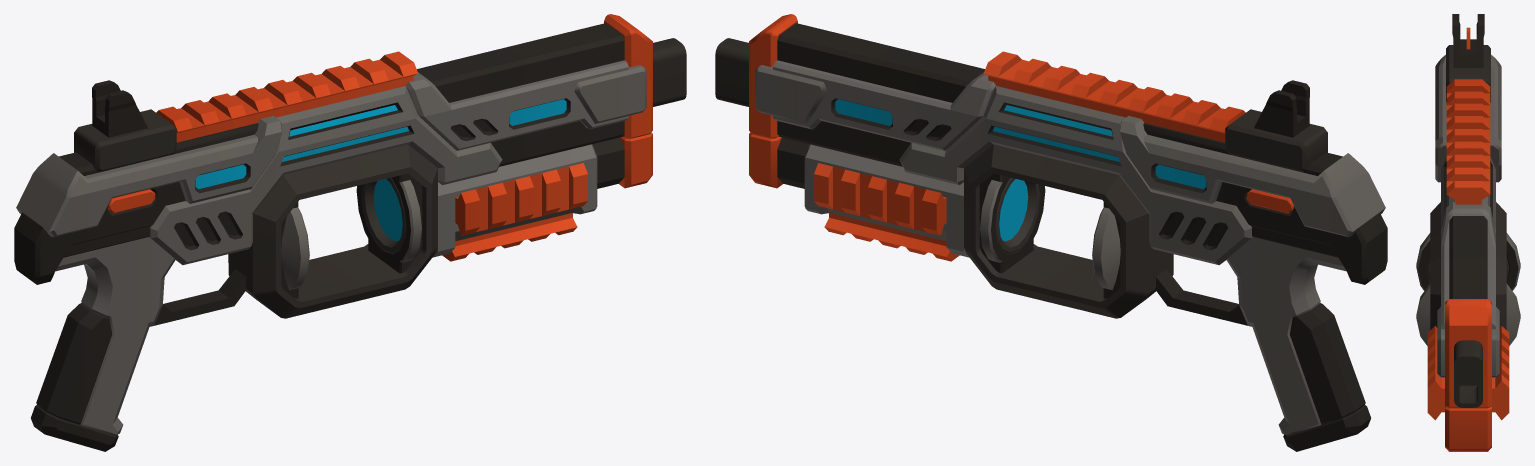
Rendered from SMG4_Base.fbx.
3 renders of one model, left to right at view 1: azimuth 30°, elevation 25°; view 2: azimuth 150°, elevation 25°; view 3: azimuth 270°, elevation 25°, orthographic. The views are drawn at different scales.
Parts seen in each view (by area): view 1: SMG4_Base; view 2: SMG4_Base; view 3: SMG4_Base.
Part boxes in pixels (x1,y1,x2,y2): SMG4_Base: (14, 14, 686, 451); SMG4_Base: (715, 14, 1387, 451); SMG4_Base: (1416, 14, 1520, 451).
Bounding box in the file's own units: 41.39 × 21.59 × 6.2.
